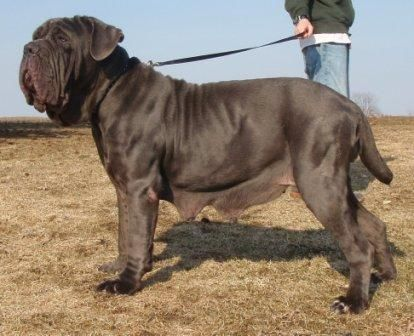neapolitan_mastiff: (17, 14, 396, 314)
person: (284, 0, 354, 197)
